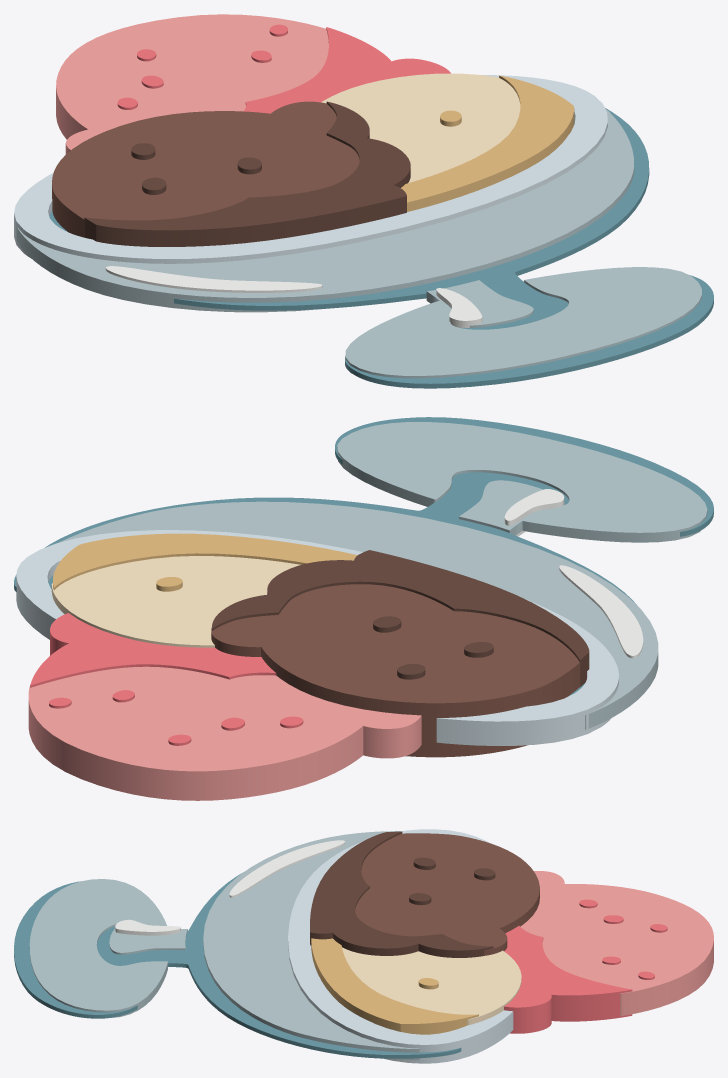
The model's file is emoji_u1f368.glb.
The picture shows the model from 3 angles, top to bottom: view 1: azimuth 30°, elevation 25°; view 2: azimuth 150°, elevation 25°; view 3: azimuth 270°, elevation 25°; orthographic projection. The views are drawn at different scales.
Parts seen in each view (by area): view 1: emoji_u1f368; view 2: emoji_u1f368; view 3: emoji_u1f368.
Boxes of the visible parts, bbox=[...] form: emoji_u1f368: bbox=[14, 14, 713, 388]; emoji_u1f368: bbox=[14, 417, 713, 800]; emoji_u1f368: bbox=[14, 829, 713, 1063].
Size of the model in its own units: 0.0252 by 0.0026 by 0.0339.
